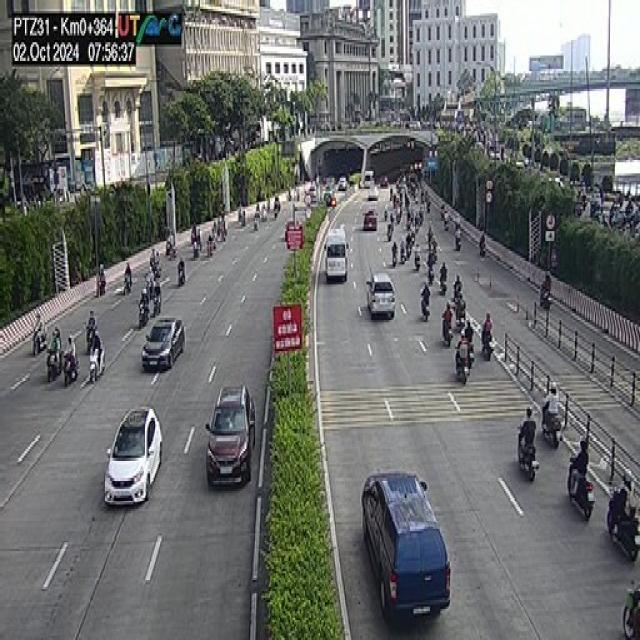car: (360, 469, 451, 624), (102, 404, 162, 506), (204, 382, 255, 487), (140, 316, 185, 371), (365, 271, 395, 318), (323, 227, 348, 282)
motorcycle: (566, 456, 594, 520), (516, 424, 539, 480), (541, 402, 561, 447), (454, 342, 470, 384), (89, 342, 105, 382)
